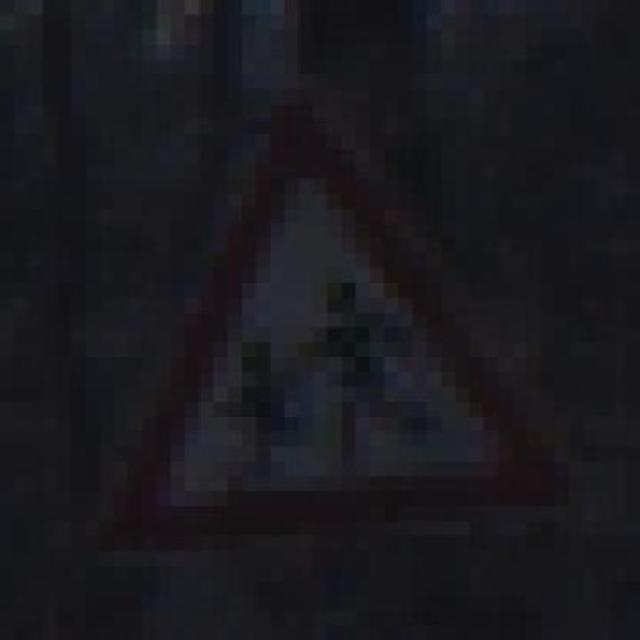Beware of children: (85, 75, 569, 550)
